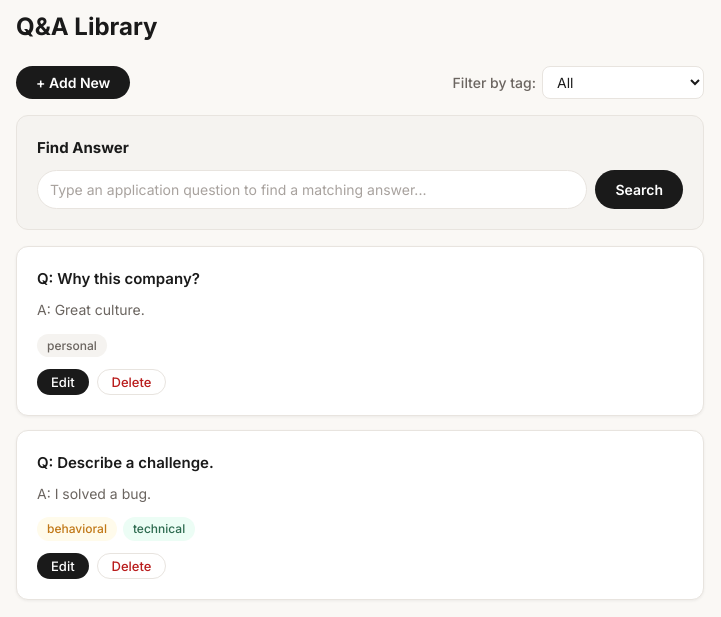
Test: QALibrary › filters pairs by tag
Expected: the text "Q: Why this company?" is shown, [37,269,200,288]
Note: Filter to "technical" — only pair 2 has it
Select "technical" in the dropdown labelled "Filter by tag:" at point(623, 83), box [542,66,704,99]
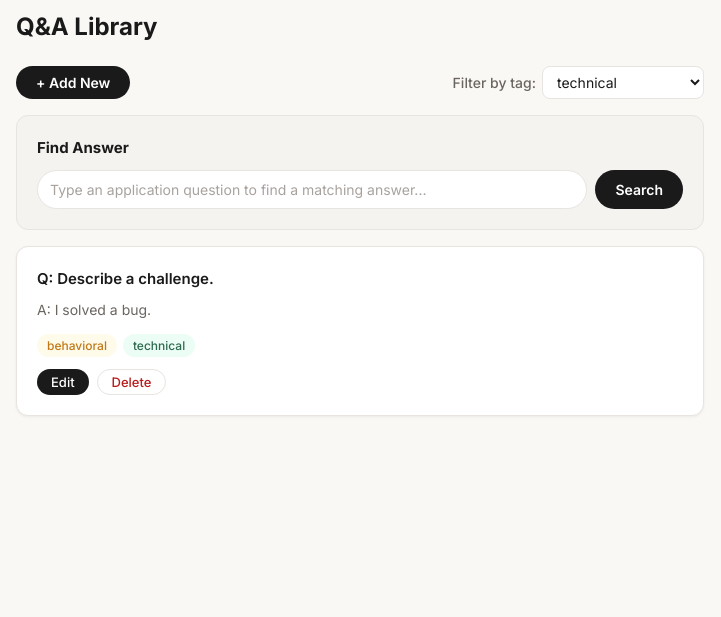
Expected: the text "Q: Describe a challenge." is shown, [37,269,214,288]
Now the text "Why this company?" is gone
